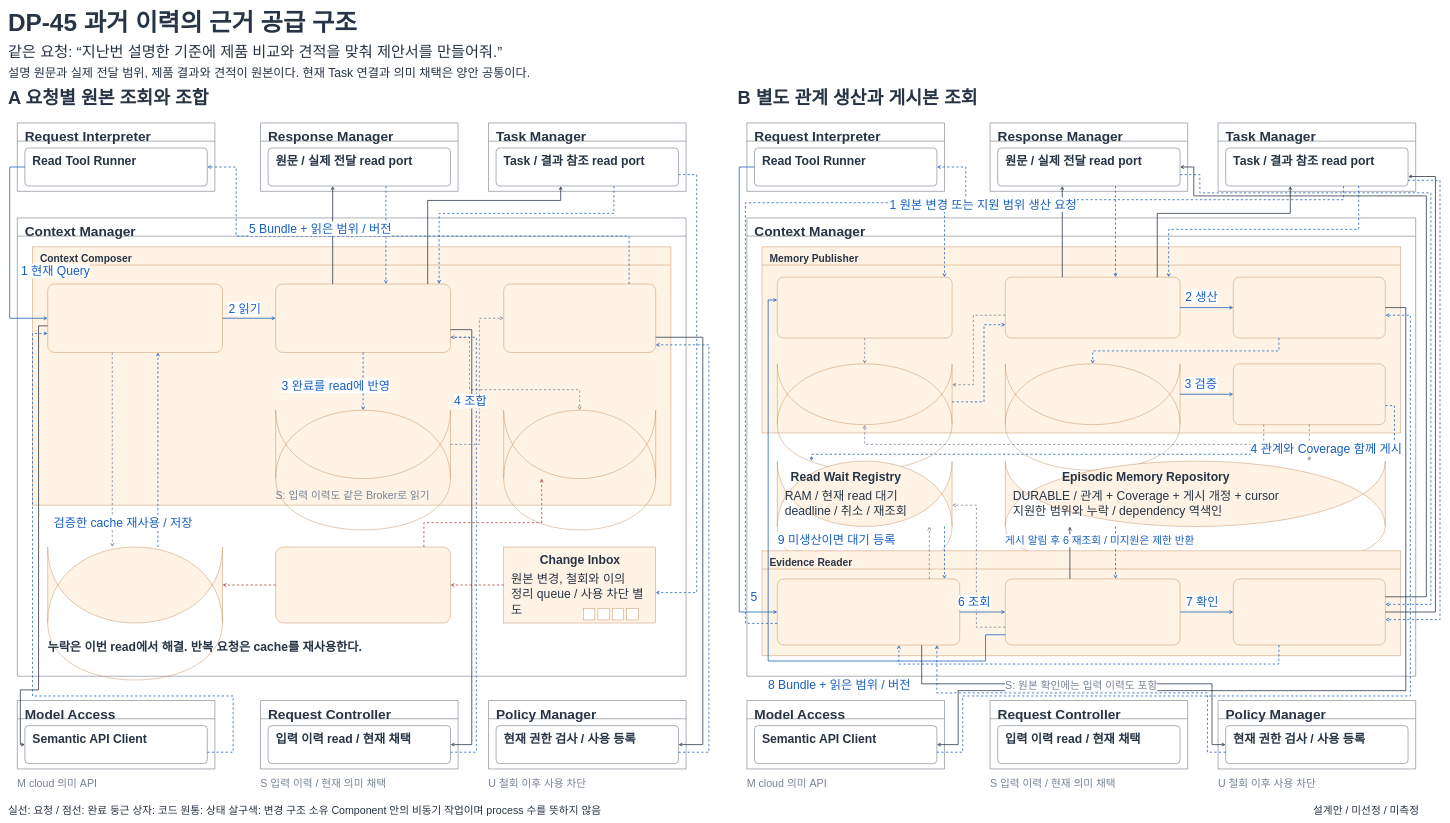
This 1450x823 diagram has some shape labels left out. The shapes that lost their labels are listed below. From the top down, each one's centre as x and y in pixels, then its label:
point 134,318: Read Pump / Planner 접수, 범위와 조회 계획 필요한 읽기 병렬 시작
point 362,318: Owner Read Broker search / read / validate 원본 버전과 누락 반환
point 579,318: Bundle Builder 실제 전달 범위로 조합 사용 검사 후 1회 반환
point 864,307: Change Admission 확정 변경 / backfill 접수 범위, 예산과 생산 job 등록
point 1092,307: Source Read Worker job claim / 원본 읽기 S 입력 이력도 확인
point 1309,307: Relation Builder 명시 관계는 코드 의미 추출은 조건부 모델
point 864,394: Production Journal DURABLE / job, retry 게시 통지 outbox
point 1092,394: Candidate Batch RAM / 게시 전 후보 출처, 구간과 uncertainty
point 1309,394: Publish Guard source / 권한 / 개정 검사 조건부 transaction
point 362,444: Request Evidence Set RAM / 이번 read의 발췌 원본 버전과 pending read
point 579,444: Read Job Index RAM / job과 cancel 늦은 완료 회수
point 134,585: Source View Cache 재사용 발췌와 관계 검증한 cache / 부분 갱신
point 362,585: Invalidation Handler 변경 dependency 차단 cache와 활성 read 정리
point 868,612: Read Pump / Bundle Builder 현재 read 접수와 반환 검증한 근거와 누락 조합
point 1092,612: Index / Coverage Resolver 게시된 관계와 범위 읽기 미생산이면 생산 후 재조회
point 1309,612: Origin Verifier S 원본 버전 / 인용 확인 현재 권한 검사
